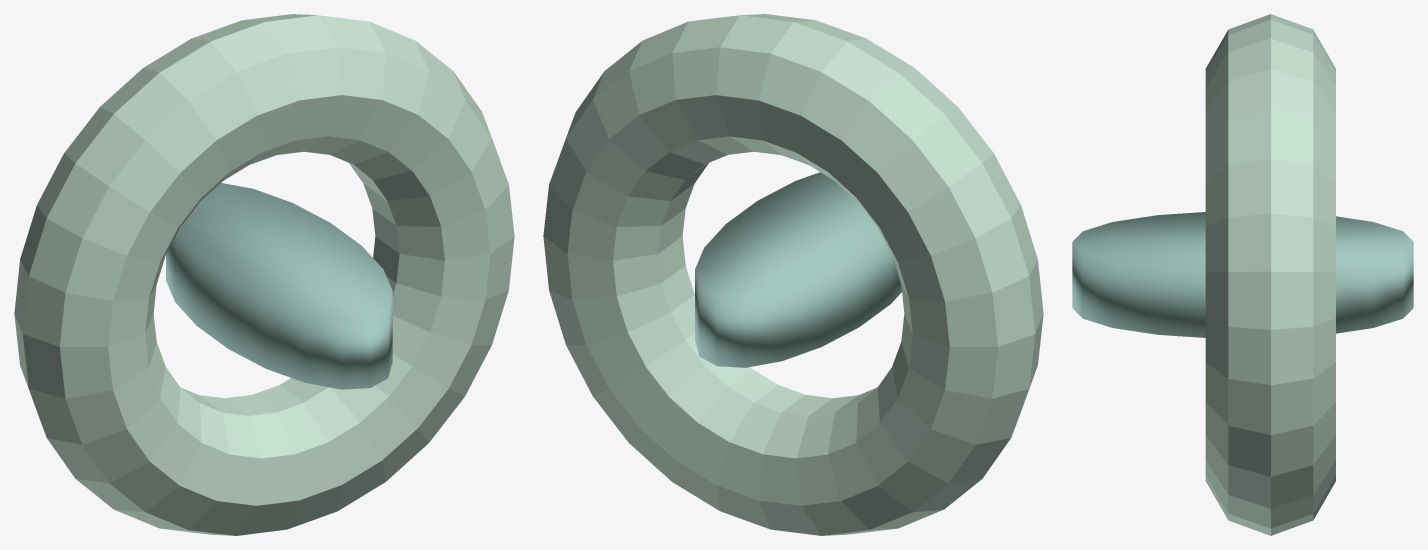
The model's file is transporter_module.glb.
The picture shows the model from 3 angles, left to right: view 1: azimuth 30°, elevation 25°; view 2: azimuth 150°, elevation 25°; view 3: azimuth 270°, elevation 25°; orthographic projection. The views are drawn at different scales.
Visible parts, largest first — view 1: Transporter_ProteinRing, Transporter_CentralPore; view 2: Transporter_ProteinRing, Transporter_CentralPore; view 3: Transporter_ProteinRing, Transporter_CentralPore.
Part boxes in pixels (box(x1,y1,x2,y2)): Transporter_ProteinRing: box(14, 14, 514, 535); Transporter_CentralPore: box(166, 183, 392, 389); Transporter_ProteinRing: box(543, 14, 1043, 535); Transporter_CentralPore: box(695, 172, 901, 367); Transporter_ProteinRing: box(1205, 14, 1335, 535); Transporter_CentralPore: box(1072, 212, 1413, 337).
Size of the model in its own units: 0.15 by 0.15 by 0.098.
